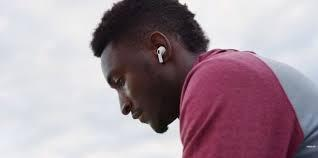earphone: (154, 44, 169, 63)
